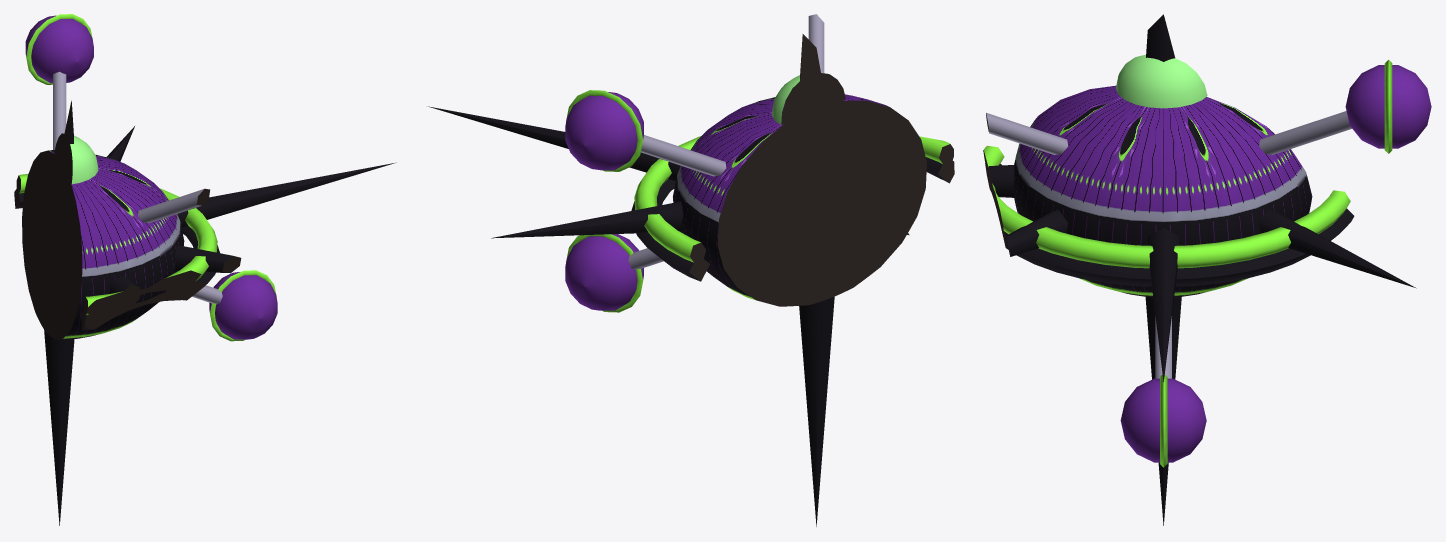
Rendered from dominion_outpost_debris2.obj.
3 renders of one model, left to right at view 1: azimuth 30°, elevation 25°; view 2: azimuth 150°, elevation 25°; view 3: azimuth 270°, elevation 25°, orthographic. The views are drawn at different scales.
Visible parts, largest first — view 1: hub, spike, pod, glow_ring, strut, ring_frame, crown, pod_band; view 2: hub, spike, pod, glow_ring, strut, ring_frame, crown, pod_band; view 3: hub, pod, spike, glow_ring, ring_frame, strut, crown, pod_band.
Part boxes in pixels (box(x1,y1,x2,y2)): hub: box(22, 150, 184, 339); spike: box(42, 100, 395, 525); pod: box(25, 15, 277, 339); glow_ring: box(16, 174, 217, 315); strut: box(53, 71, 222, 336); ring_frame: box(14, 187, 219, 330); crown: box(54, 133, 98, 184); pod_band: box(26, 14, 276, 341); hub: box(673, 94, 926, 306); spike: box(428, 34, 835, 526); pod: box(565, 92, 643, 310); glow_ring: box(634, 136, 953, 262); strut: box(628, 14, 909, 269); ring_frame: box(631, 157, 954, 281); crown: box(771, 73, 845, 124); pod_band: box(566, 90, 642, 312); hub: box(1012, 85, 1312, 297); pod: box(1120, 65, 1431, 462); spike: box(988, 14, 1416, 525); glow_ring: box(983, 145, 1350, 268); ring_frame: box(985, 163, 1354, 286); strut: box(986, 111, 1351, 378); crown: box(1116, 54, 1207, 108); pod_band: box(1160, 59, 1392, 467).
Bounding box in the file's own units: 114 × 120 × 93.76.
Materials: 7 (1 with a texture image).
